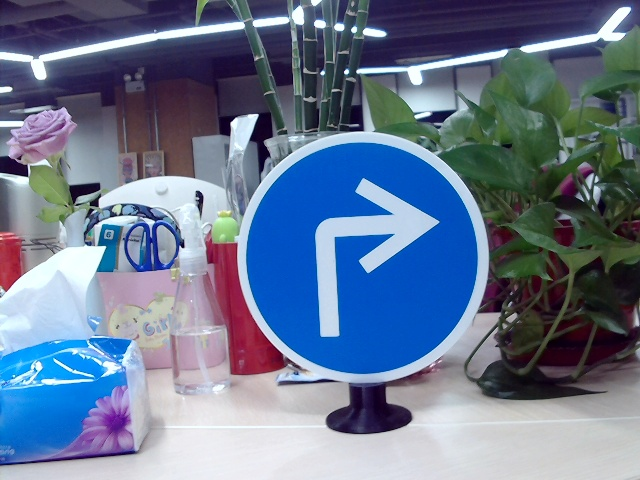turn_right: (308, 173, 435, 334)
